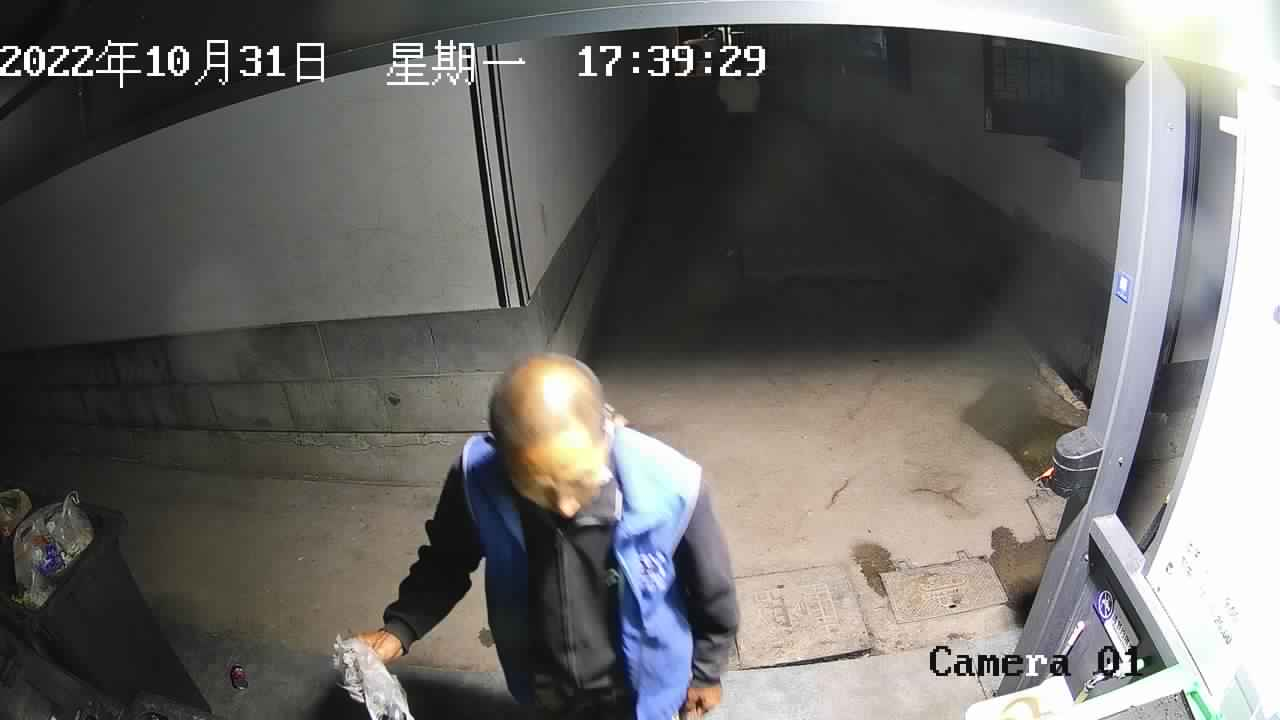suliaozhipin: (330, 630, 415, 720)
worker: (344, 351, 743, 720)
